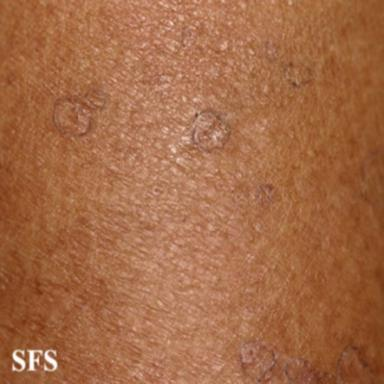Porokeratosis: (284, 345, 373, 383), (53, 87, 107, 137), (192, 109, 230, 152), (240, 341, 276, 382), (283, 62, 314, 88), (257, 183, 275, 207), (181, 25, 196, 49)
